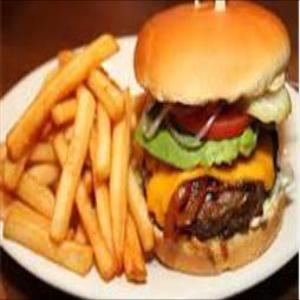cheeseburger: (138, 1, 294, 274)
fries: (6, 32, 147, 283)
